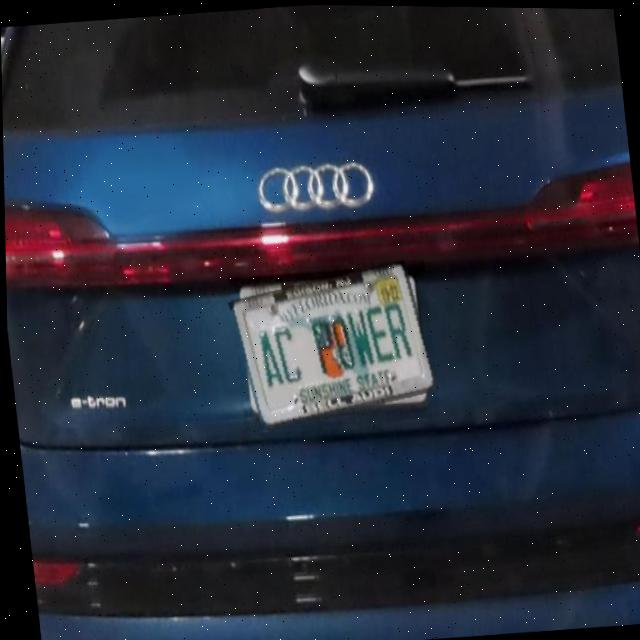LicensePlate: (229, 259, 436, 429)
